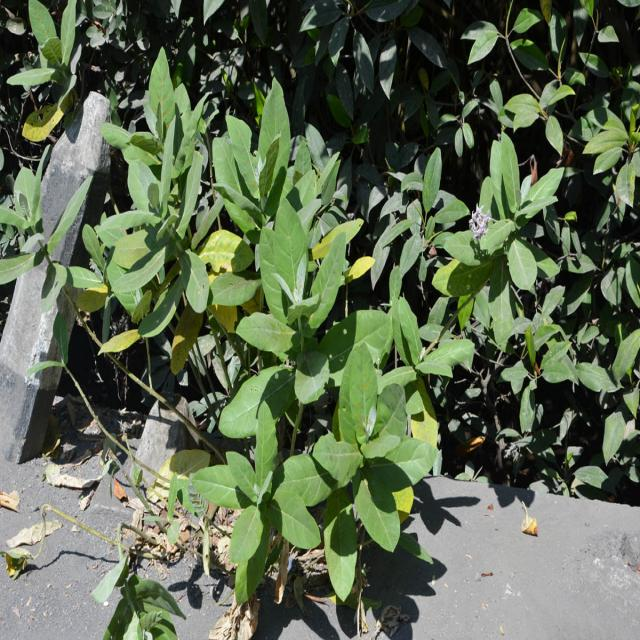Poisonous-Calatropis: (192, 147, 420, 617), (418, 124, 588, 459)
